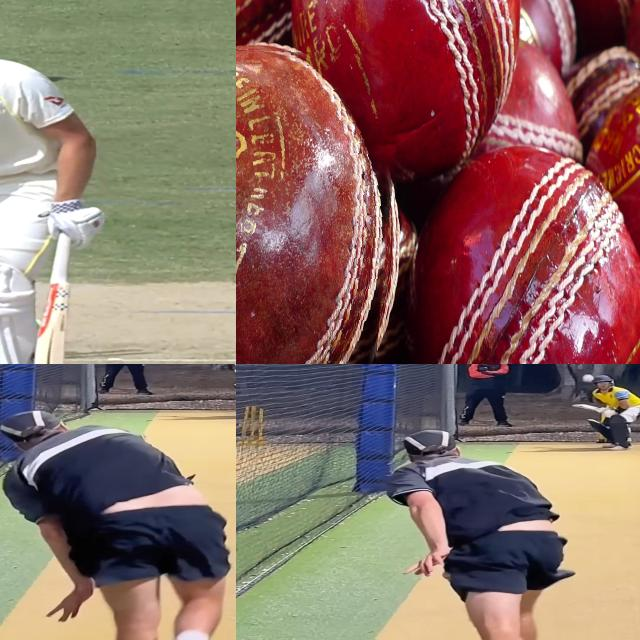Cricket ball: (236, 45, 405, 364), (410, 136, 640, 364), (581, 374, 595, 382)
